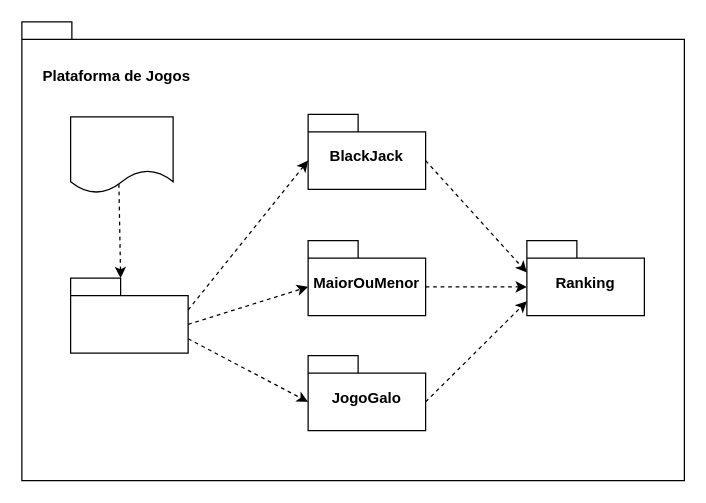
Some shapes in this 706 by 503 pixel diagram are drawn without their labels. Here are the shapes that lost their labels. From the top down, the centre of each, then its label:
the point at 121,154: main.cpp
the point at 128,315: UImanager
